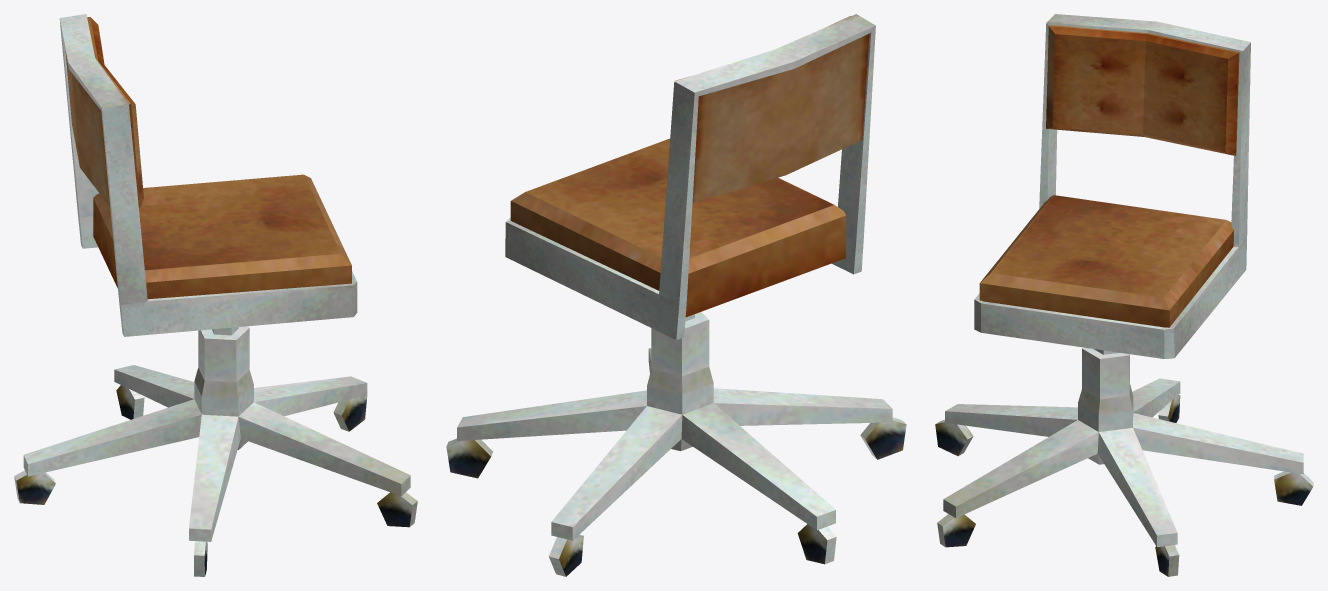
The model's file is office_chair_orange.fbx.
3 views of the same model, side by side, from view 1: azimuth 30°, elevation 25°; view 2: azimuth 150°, elevation 25°; view 3: azimuth 270°, elevation 25° (orthographic). The views are drawn at different scales.
Visible parts, largest first — view 1: office_chair_orange; view 2: office_chair_orange; view 3: office_chair_orange.
Boxes of the visible parts, x1,y1,x2,y2 form: office_chair_orange: (14, 14, 417, 576); office_chair_orange: (446, 14, 906, 576); office_chair_orange: (935, 14, 1313, 576).
Bounding box in the file's own units: 90.52 × 109 × 88.89.
